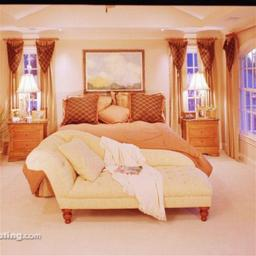Cama: (47, 93, 197, 190)
